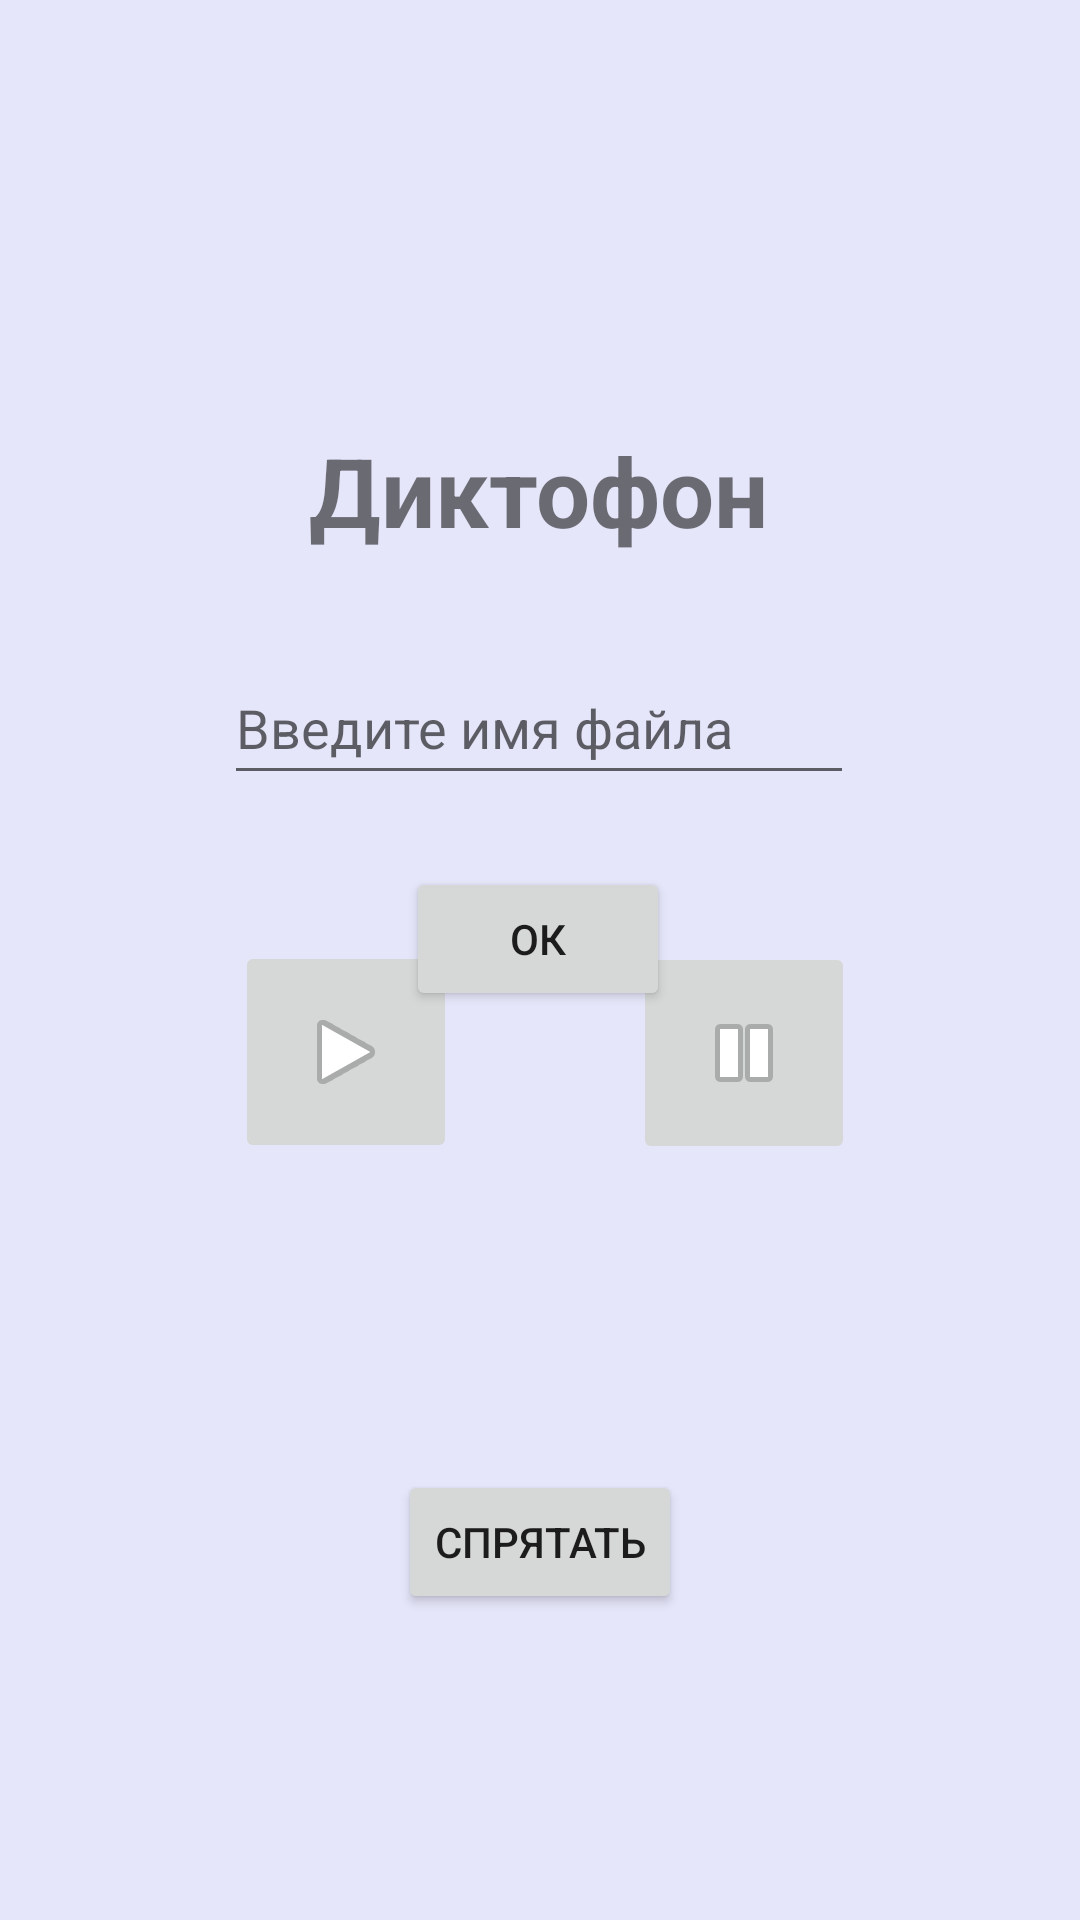

Where to tap for icons on this 1080px x 1920px app screen, as (x=x, y=y):
pause: (x=738, y=1044)
play: (x=352, y=1043)
